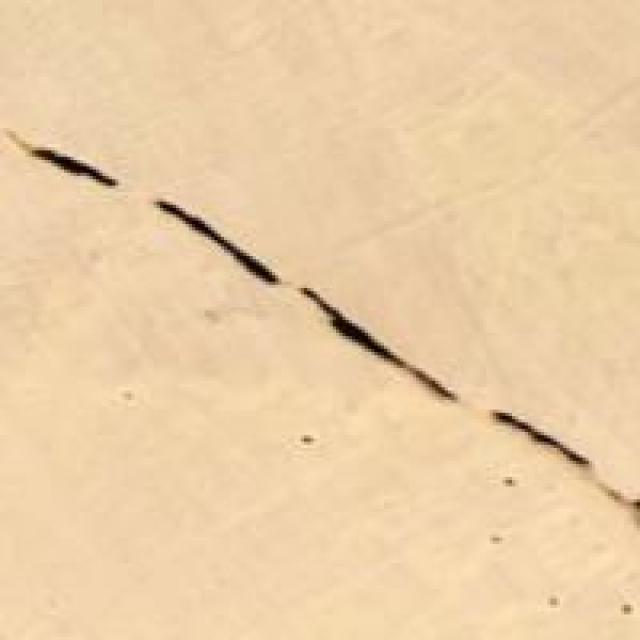Crack: (8, 94, 638, 568)
